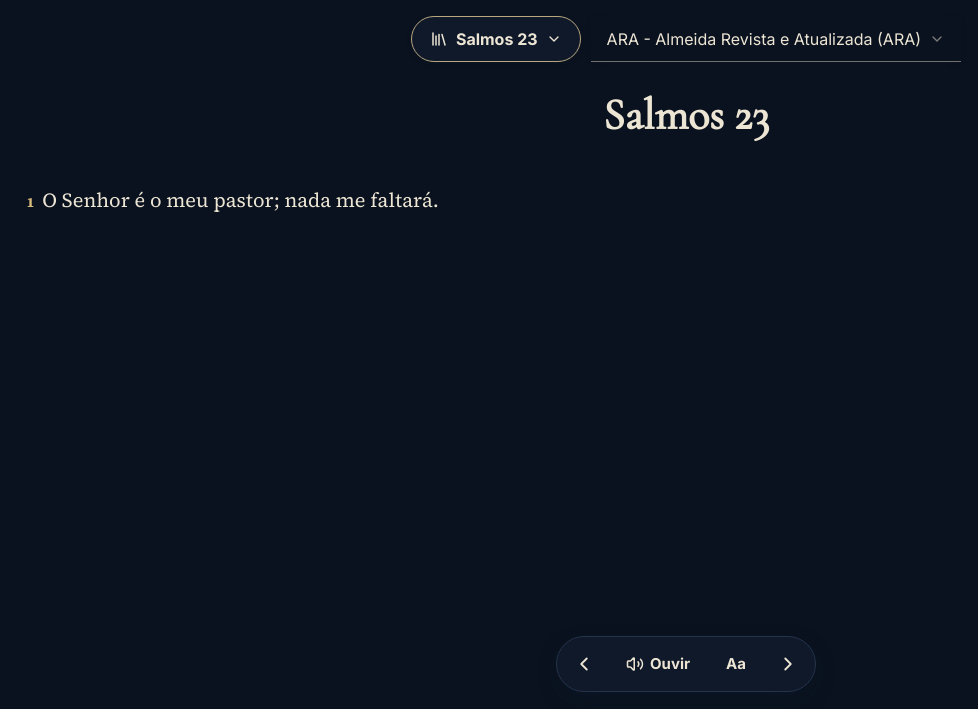
Test: Bíblia: falha ao carregar não deixa o texto anterior na tela › capítulo seguinte com erro mostra o aviso, não o capítulo anterior com o título novo
The image size is (978, 709).
Expected: the text "O Senhor é o meu pastor; nada me faltará." is shown, [42,186,439,214]
Click the button named "Próximo capítulo".
click(788, 664)  # box [766,642,810,686]
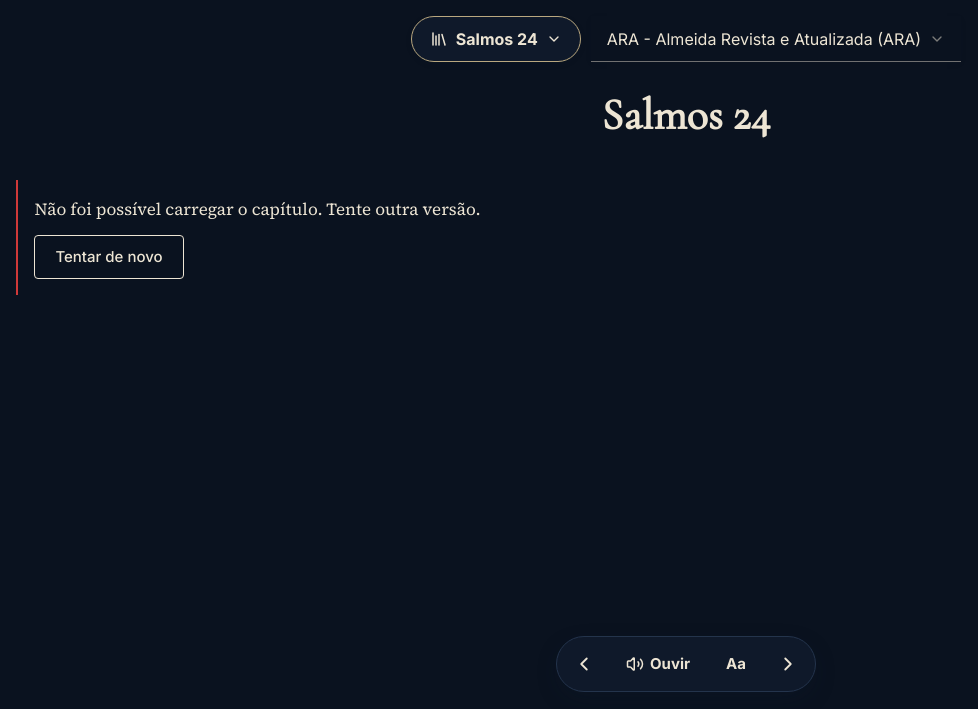
Now the text "o meu pastor" is gone
Now the text "Não foi possível carregar o capítulo. Tente outra versão." is shown, box [34,197,481,221]
